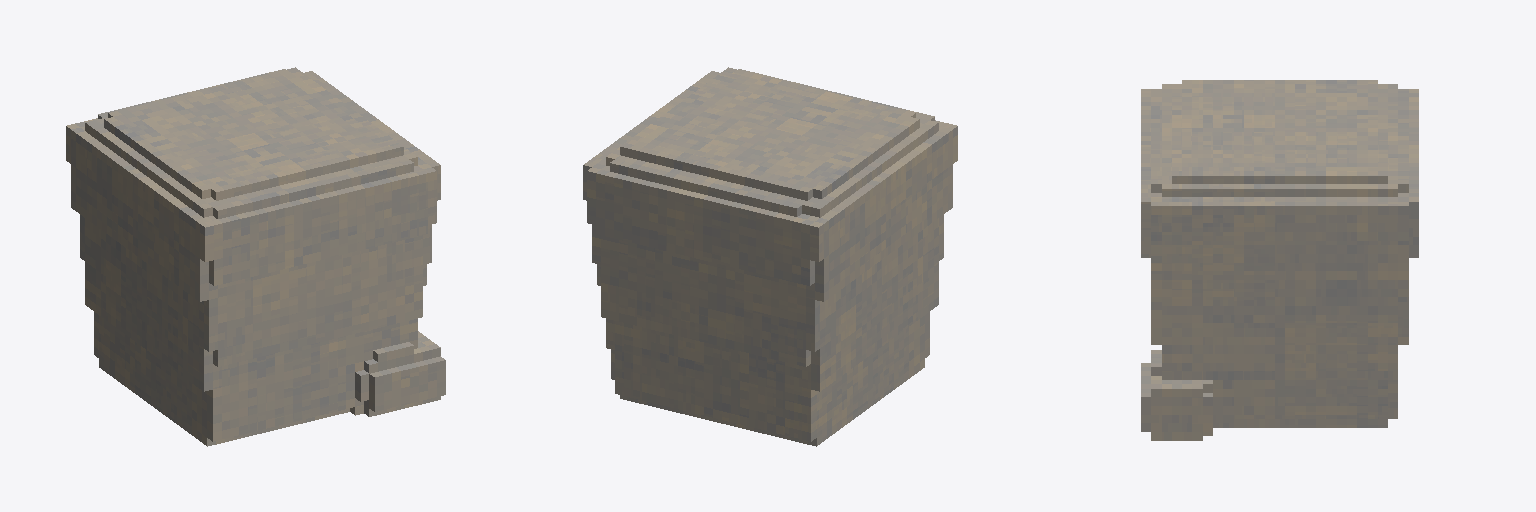
3 renders of one model, left to right at view 1: azimuth 30°, elevation 25°; view 2: azimuth 150°, elevation 25°; view 3: azimuth 270°, elevation 25°, orthographic.
Visible parts, largest first — view 1: 立方体; view 2: 立方体; view 3: 立方体.
Boxes of the visible parts, x1,y1,x2,y2 form: 立方体: [66, 67, 445, 446]; 立方体: [583, 67, 957, 446]; 立方体: [1141, 80, 1418, 440].
Size of the model in its own units: 2 by 2 by 2.
Materials: 1 (1 with a texture image).